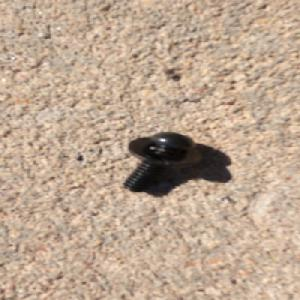BoltWasher: (121, 131, 206, 193)
